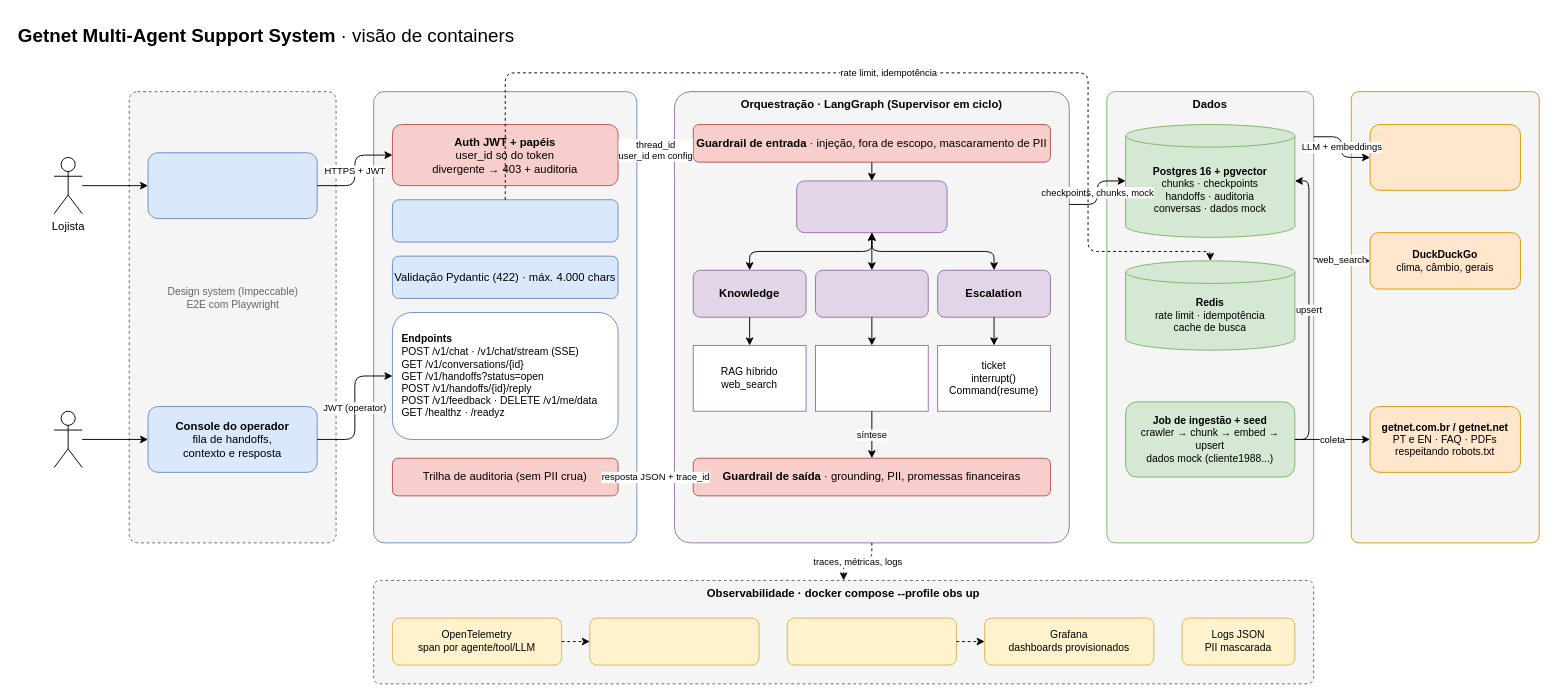
Some shapes in this 1556 by 700 pixel diagram are drawn without their labels. The shapes that lost their labels are listed below. From the top down, each one's box as (x1, y1, x2, y2) in pixels, then its label:
(1369, 124, 1520, 190): OpenAI modelo principal + fallback · embeddings
(147, 152, 317, 219): Chat do lojista rota, fontes, confiança, status de handoff
(392, 199, 618, 242): Rate limit 30 req/min (429) · Idempotency-Key
(796, 180, 947, 233): Supervisor planeja, delega, replaneja
(815, 269, 928, 317): Support
(128, 91, 336, 543): Frontend · extensão (P1/P2)
(373, 91, 637, 543): API · FastAPI (container api)
(1350, 91, 1539, 543): Serviços externos
(815, 345, 928, 411): 5 tools tipadas dados mock user_id injetado
(53, 410, 82, 468): Operador
(589, 617, 759, 665): Langfuse traces de LLM + evals
(786, 617, 956, 665): Prometheus métricas + alertas
